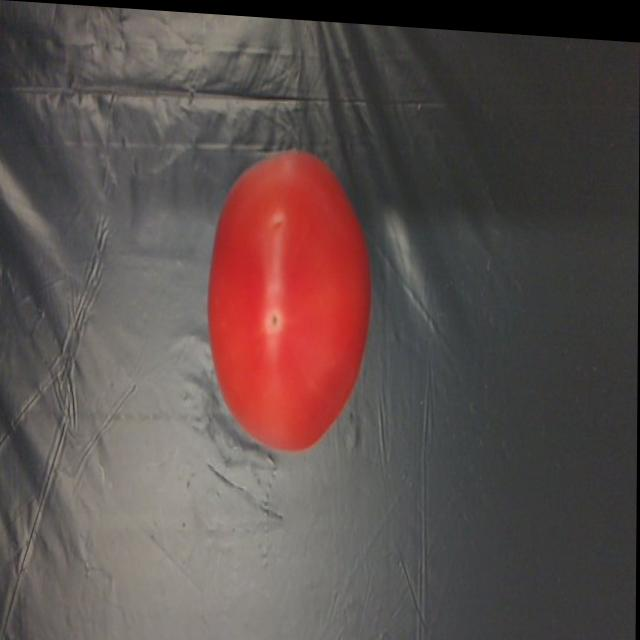kirmizi: (207, 127, 369, 461)
